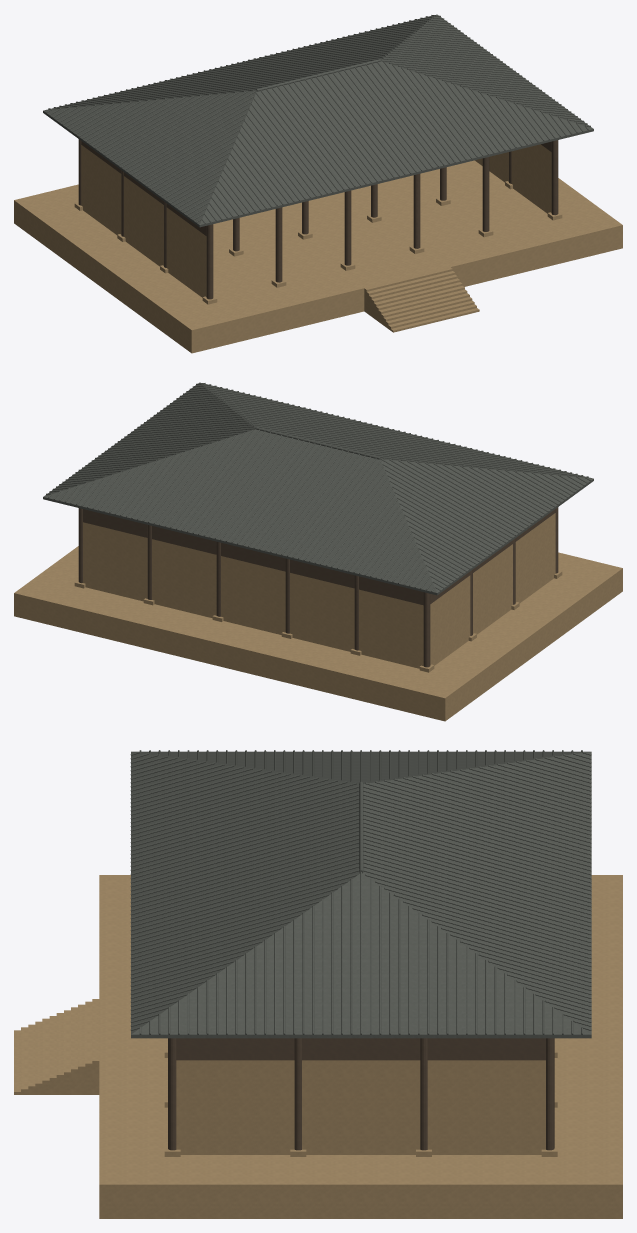
The model's file is deyang-A-LOD0.glb.
The picture shows the model from 3 angles, top to bottom: view 1: azimuth 30°, elevation 25°; view 2: azimuth 150°, elevation 25°; view 3: azimuth 270°, elevation 25°; orthographic projection. The views are drawn at different scales.
Visible parts, largest first — view 1: deyang-A-static_earth, deyang-A-static_tile, deyang-A-static_timber; view 2: deyang-A-static_tile, deyang-A-static_earth, deyang-A-static_timber; view 3: deyang-A-static_tile, deyang-A-static_earth, deyang-A-static_timber.
Boxes of the visible parts, x1,y1,x2,y2 form: deyang-A-static_earth: (14,144,622,353); deyang-A-static_tile: (43,14,593,227); deyang-A-static_timber: (78,139,558,299); deyang-A-static_tile: (43,382,593,595); deyang-A-static_earth: (14,513,622,721); deyang-A-static_timber: (78,507,558,667); deyang-A-static_tile: (130,750,591,1038); deyang-A-static_earth: (14,875,622,1218); deyang-A-static_timber: (168,1038,554,1150).
Bounding box in the file's own units: 35 × 12.54 × 29.08.
Materials: 3 (3 with a texture image).
